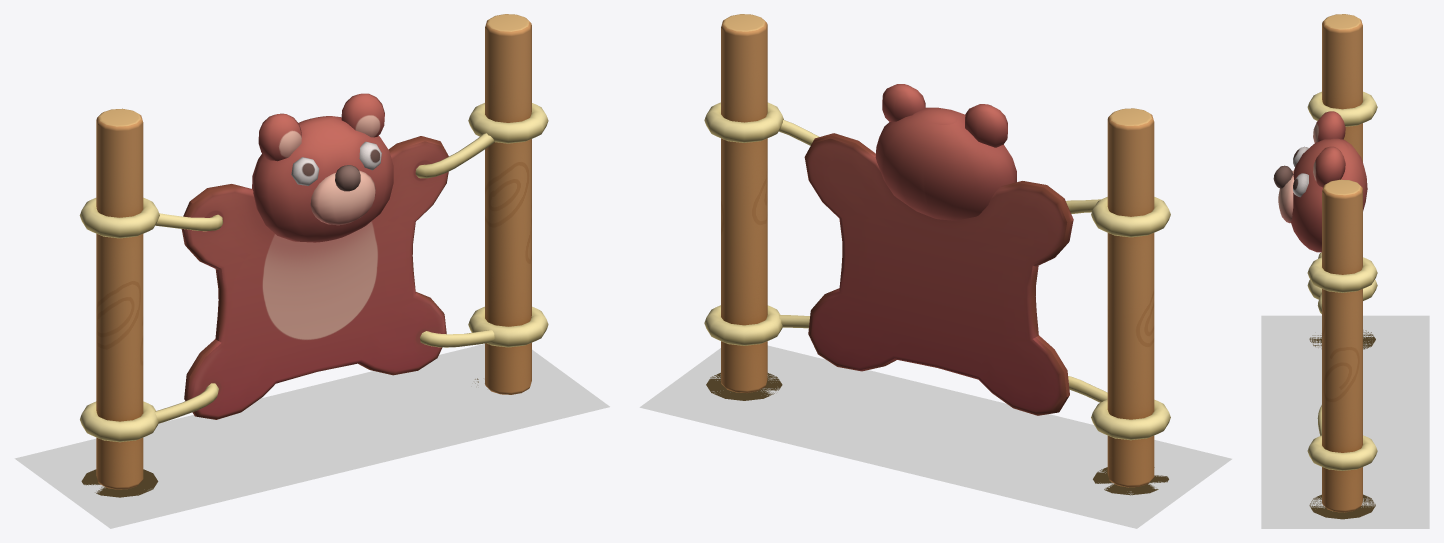
The model's file is VK_Bear.fbx.
3 renders of one model, left to right at view 1: azimuth 30°, elevation 25°; view 2: azimuth 150°, elevation 25°; view 3: azimuth 270°, elevation 25°, orthographic. The views are drawn at different scales.
Visible parts, largest first — view 1: polySurface13, Bear_Grid_Large, polySurface19, polySurface15, Bear_Grid, Shadow; view 2: polySurface13, Bear_Grid_Large, polySurface19, polySurface15, Bear_Grid, Shadow; view 3: Bear_Grid_Large, polySurface15, polySurface13, Bear_Grid, polySurface19, Shadow.
Boxes of the visible parts, x1,y1,x2,y2 form: polySurface13: [79, 93, 548, 442]; Bear_Grid_Large: [14, 344, 609, 528]; polySurface19: [96, 108, 143, 489]; polySurface15: [485, 14, 531, 394]; Bear_Grid: [181, 378, 397, 488]; Shadow: [81, 378, 478, 497]; polySurface13: [704, 84, 1170, 440]; Bear_Grid_Large: [639, 345, 1231, 528]; polySurface19: [1107, 108, 1154, 487]; polySurface15: [721, 14, 767, 392]; Bear_Grid: [805, 378, 1036, 474]; Shadow: [706, 372, 1168, 495]; Bear_Grid_Large: [1261, 315, 1429, 528]; polySurface15: [1322, 179, 1362, 512]; polySurface13: [1273, 91, 1377, 470]; Bear_Grid: [1261, 387, 1429, 457]; polySurface19: [1322, 14, 1362, 161]; Shadow: [1309, 330, 1375, 519].
Bounding box in the file's own units: 3 × 2.09 × 1.
